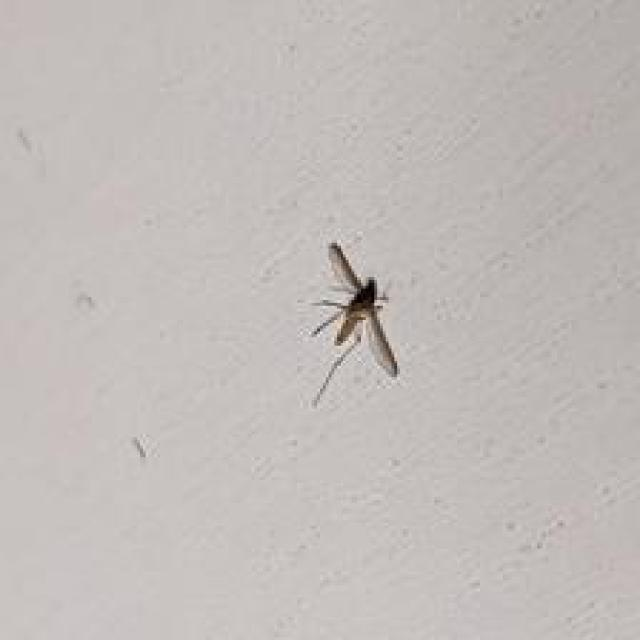Culex: (309, 239, 400, 407)
